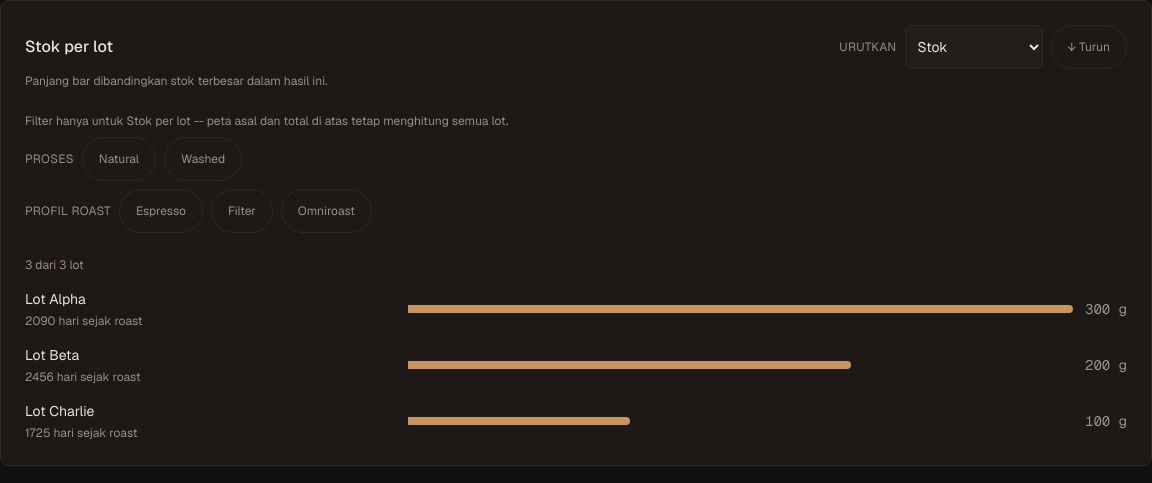
Test: StockBars filter › hasil filter kosong menampilkan pesan, bukan list kosong
Click the button "Washed".
click(203, 159)  # box [164,137,242,181]
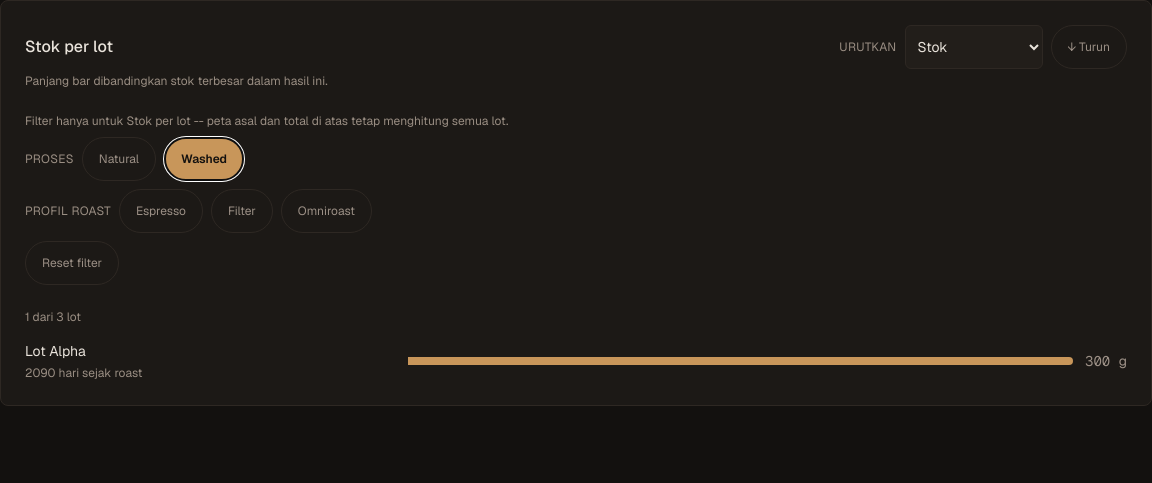
Click the button "Omniroast".
click(326, 211)  # box [281,189,372,233]
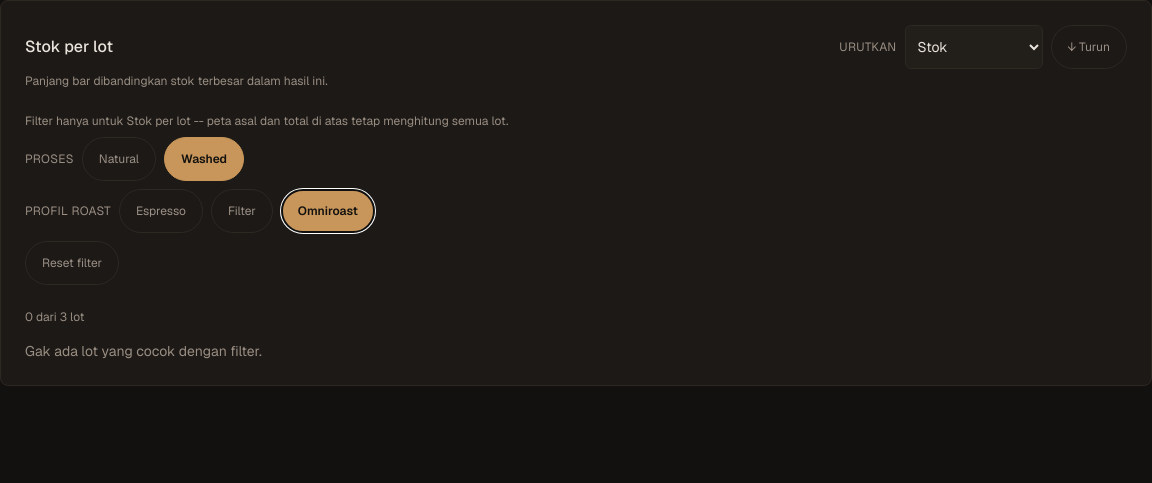
Check: the text "Gak ada lot yang cocok dengan filter." is shown, box [25,342,262,360]
